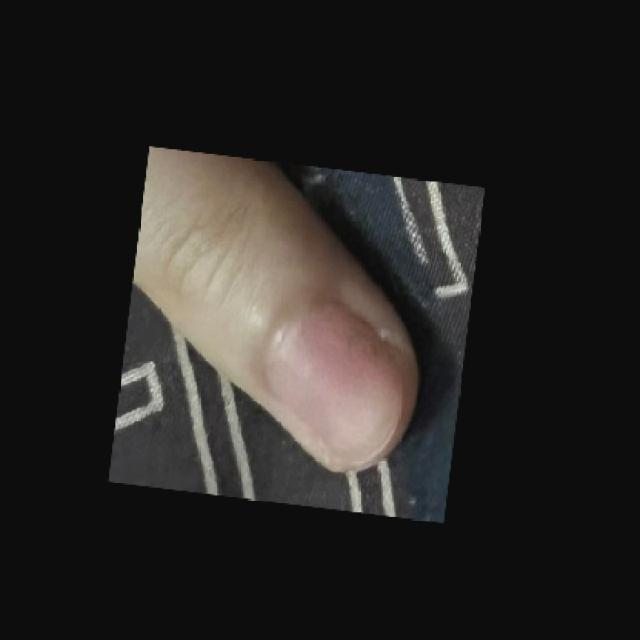Nail: (271, 307, 402, 468)
